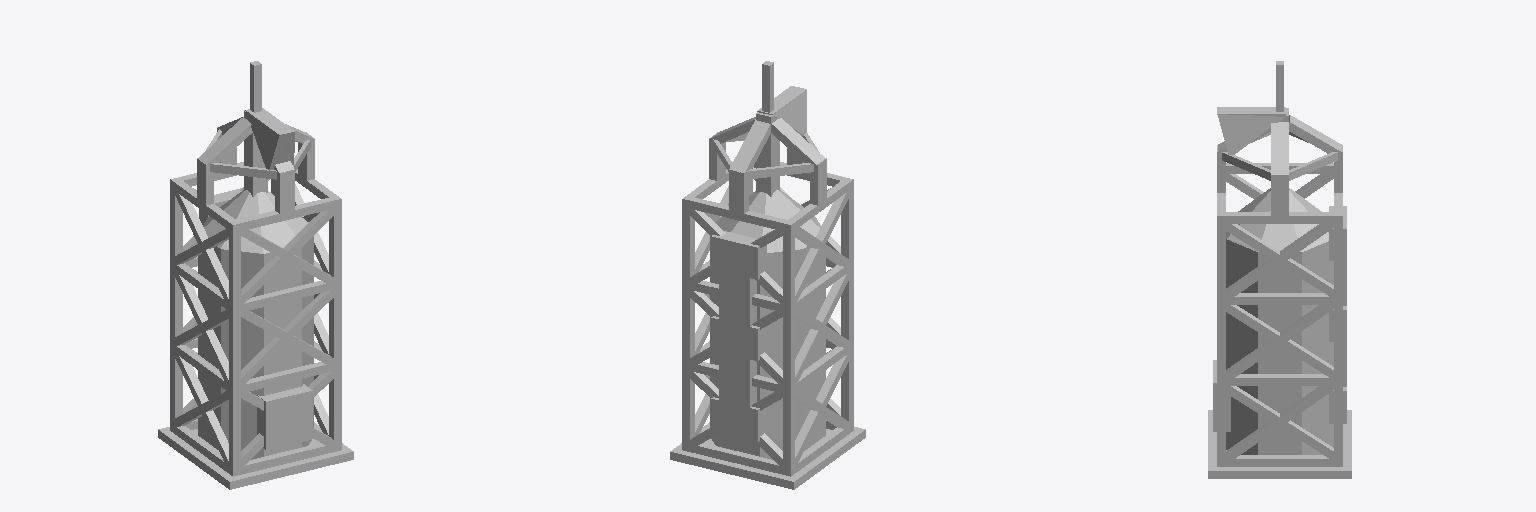
Rendered from tower_main.obj.
3 views of the same model, side by side, from view 1: azimuth 30°, elevation 25°; view 2: azimuth 150°, elevation 25°; view 3: azimuth 270°, elevation 25° (orthographic).
Parts seen in each view (by area): view 1: main; view 2: main; view 3: main.
Part boxes in pixels (x1,y1,x2,y2): main: (158, 61, 353, 489); main: (670, 61, 865, 489); main: (1208, 61, 1351, 478).
Size of the model in its own units: 1 by 2.97 by 1.